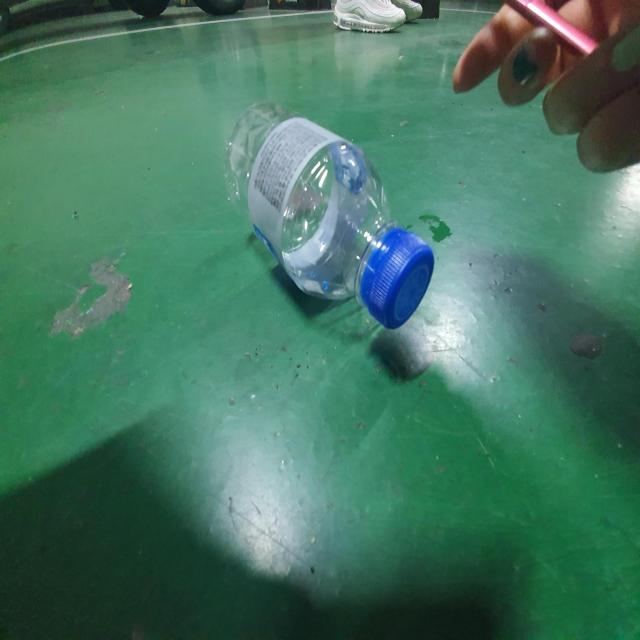plastic: (225, 101, 434, 328)
